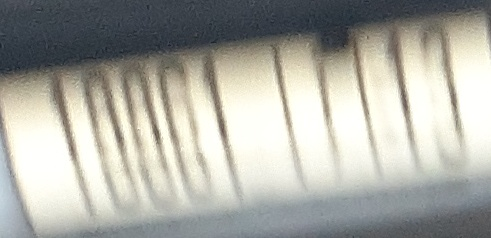1: (77, 66, 144, 218), (37, 70, 97, 226), (380, 26, 426, 175)
3: (417, 24, 474, 172)
a: (307, 38, 352, 186)
